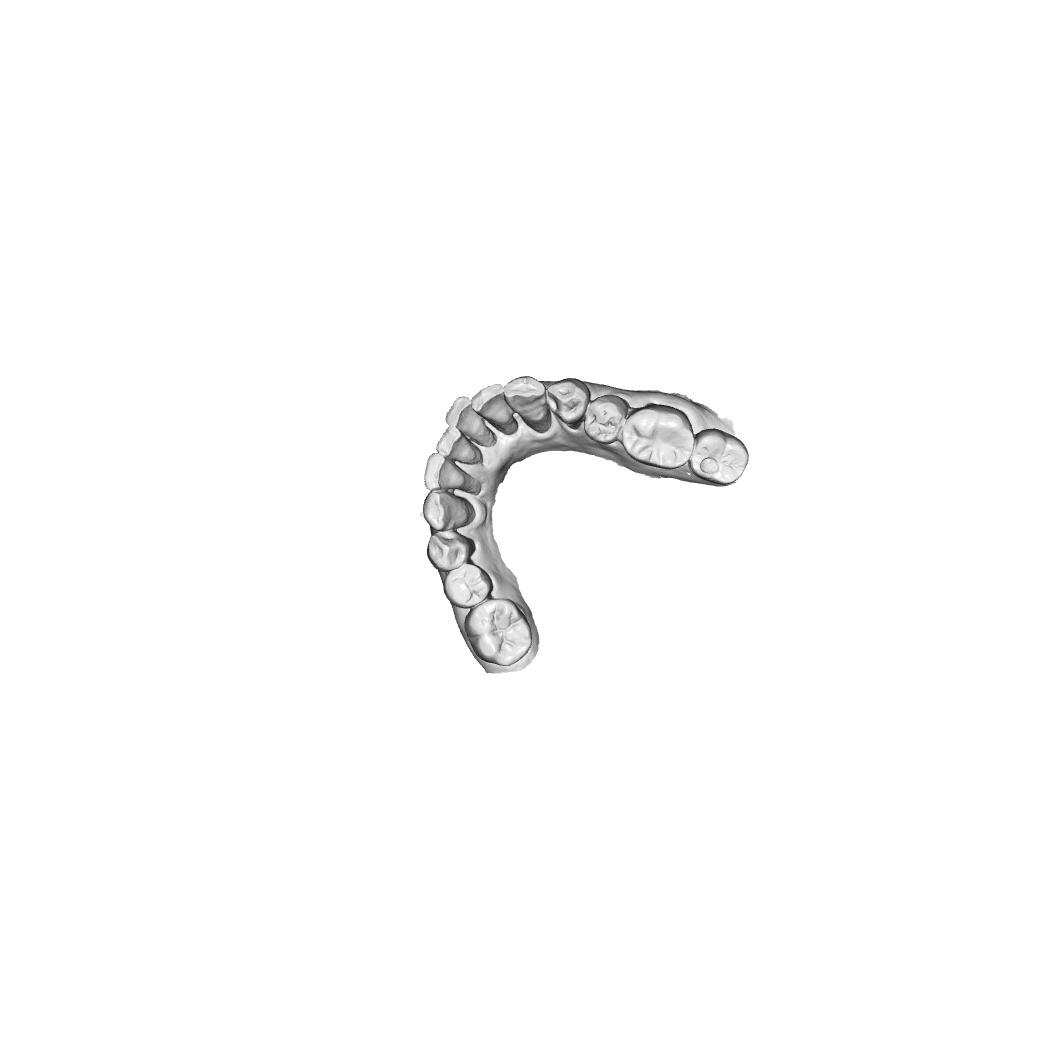canine: (502, 375, 552, 432), (422, 490, 475, 532)
incisor: (445, 395, 496, 448), (435, 425, 482, 465), (423, 453, 470, 492), (470, 383, 511, 425)
molar: (621, 403, 695, 470), (463, 597, 533, 667), (688, 427, 749, 486)
premolar: (443, 562, 493, 609), (583, 394, 629, 445), (545, 377, 591, 427), (426, 530, 477, 571)
